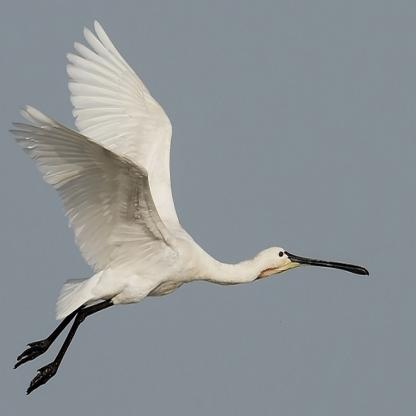Burung: (14, 21, 368, 392)
